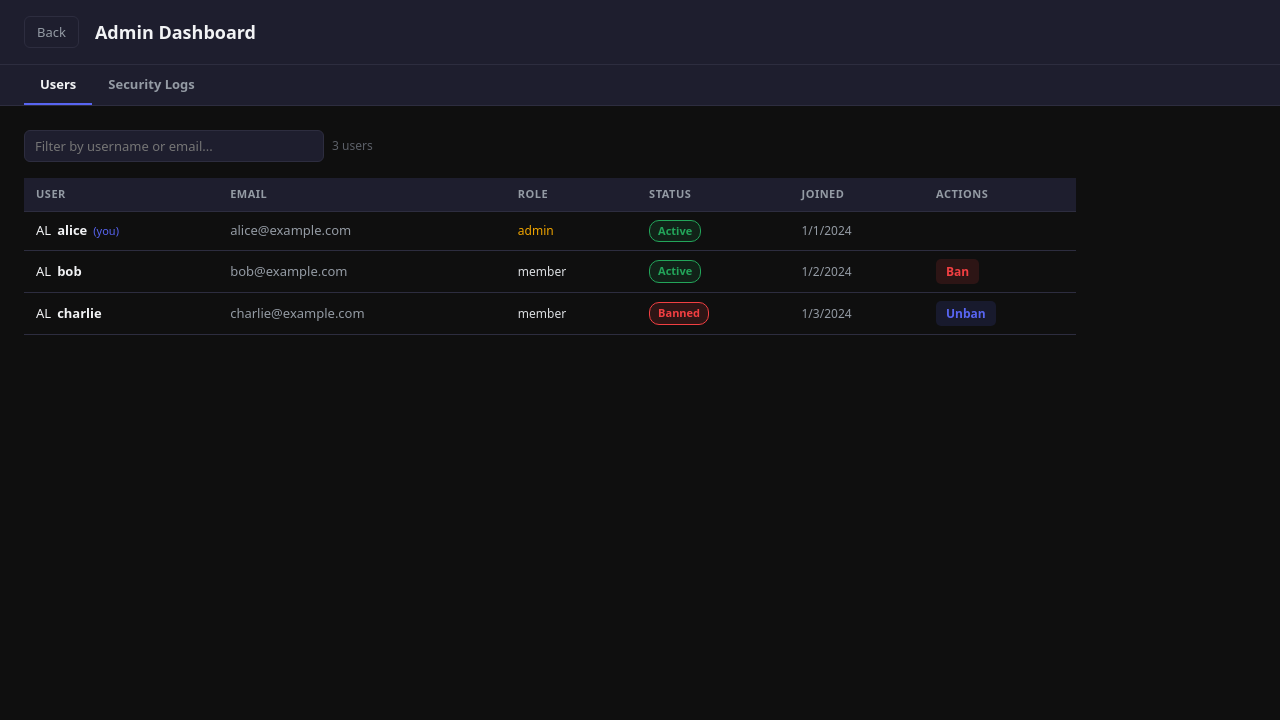
Scenario: ban confirmation modal › cancel button closes the modal
This screenshot has width=1280, height=720.
Click the button with test id "ban-2".
click(958, 272)  # box [936,259,979,284]
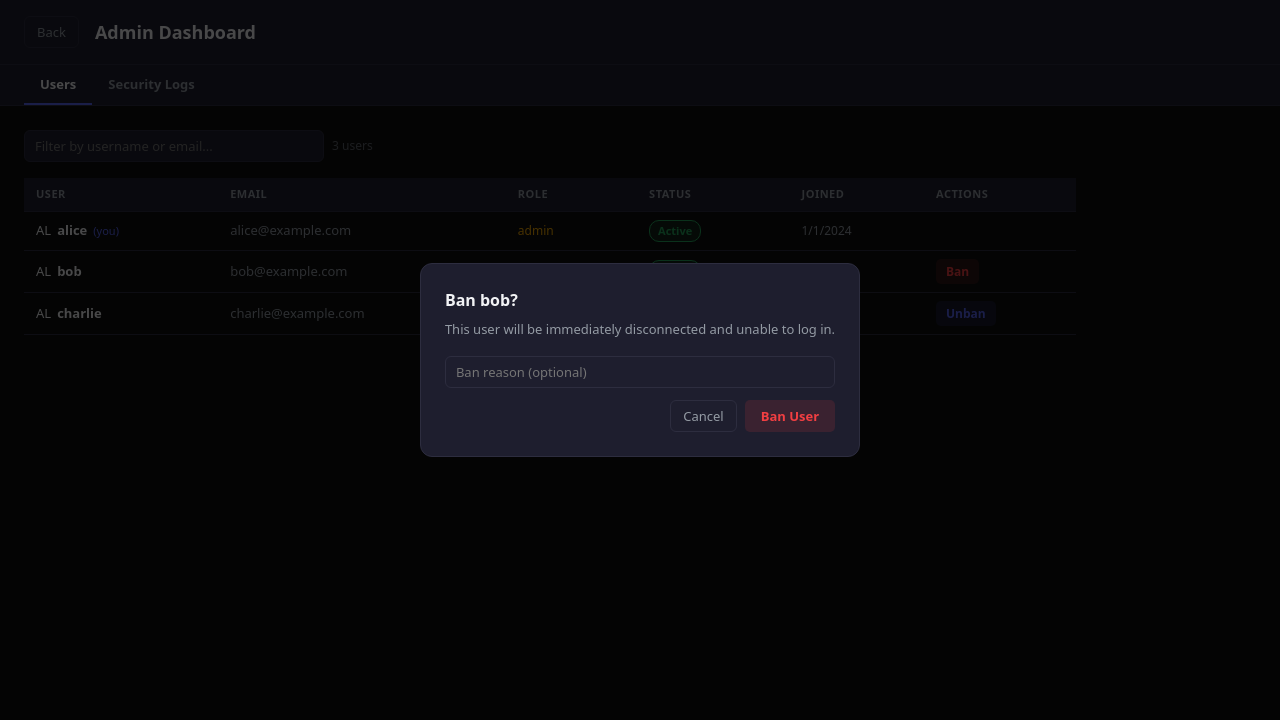
Click the button with test id "ban-cancel".
click(703, 416)  # box [670,400,737,432]
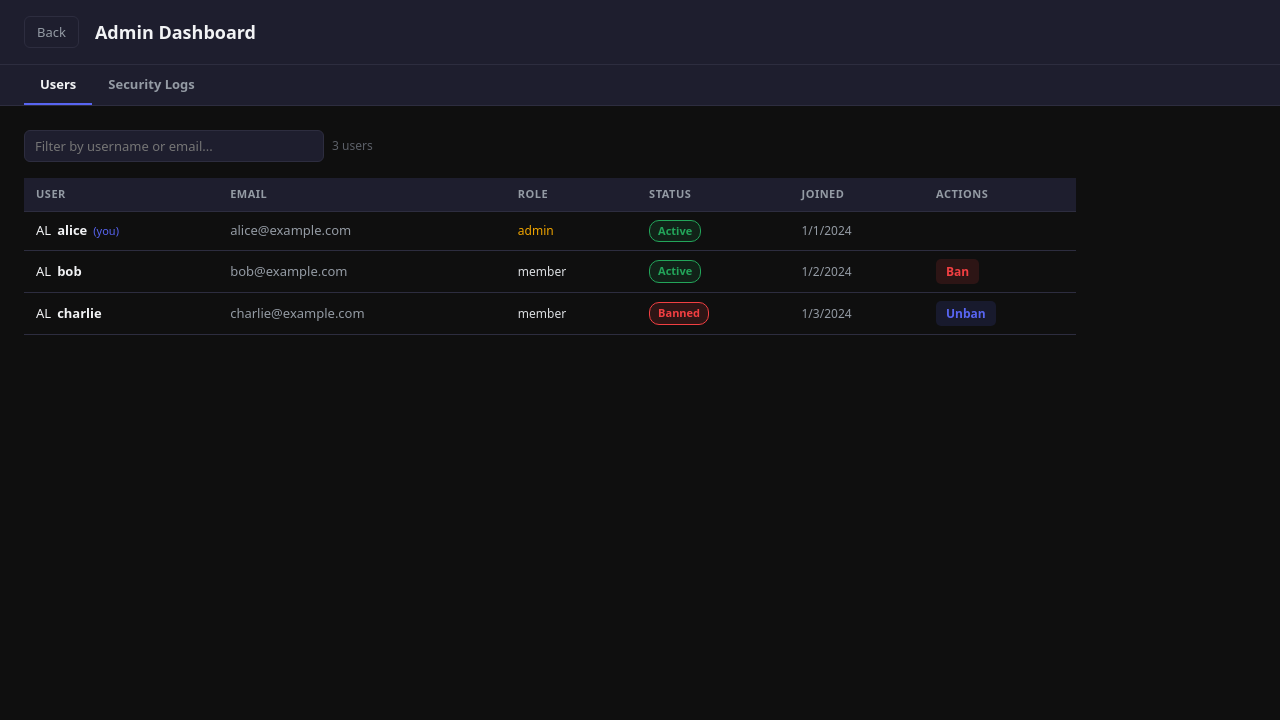
Result: the element with test id "ban-modal" is gone
